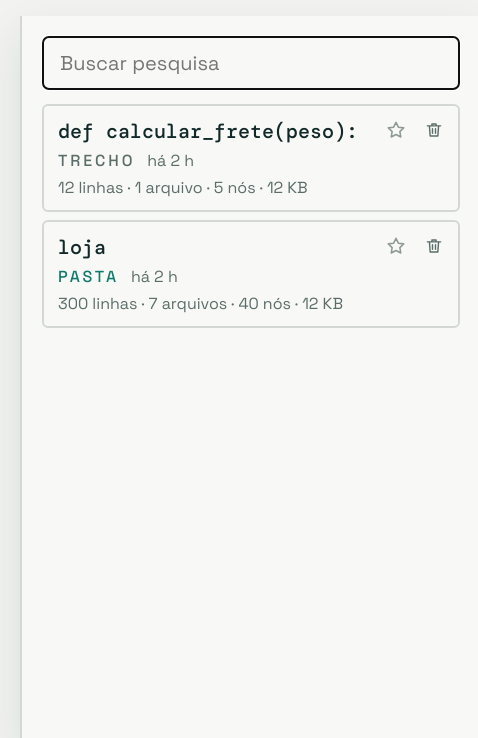
Scenario: HistoryDrawer › keeps the star as it was when starring fails
Click the button named "Pôr loja nos favoritos" at (396, 246), box [378,228,414,264]
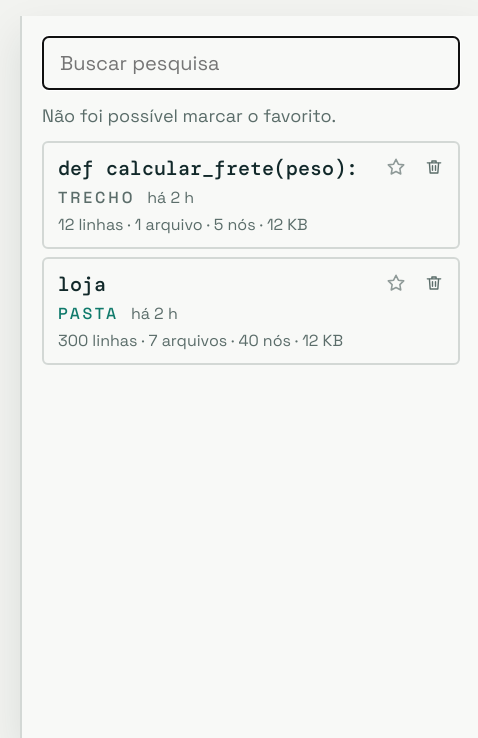
Check: the button named "Pôr loja nos favoritos" is shown, box [378,265,414,301]
Check: the message "Não foi possível marcar o favorito." is shown, box [42,104,336,127]
